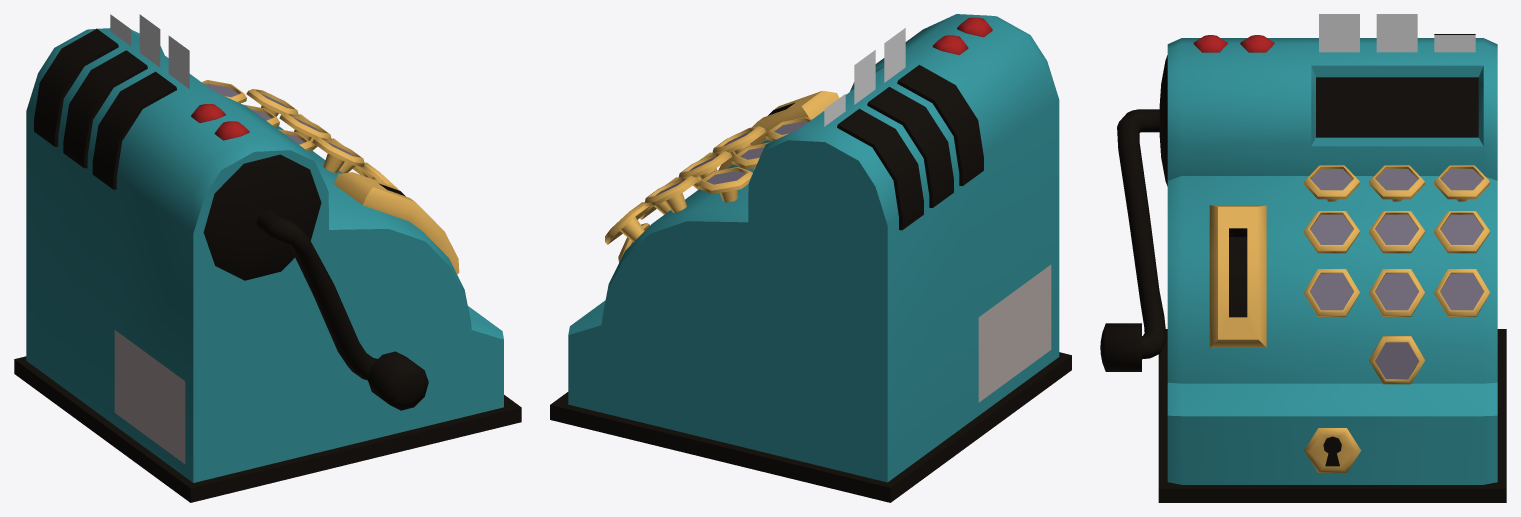
File: OT_166_blue_cash_register_shop.glb
3 renders of one model, left to right at view 1: azimuth 30°, elevation 25°; view 2: azimuth 150°, elevation 25°; view 3: azimuth 270°, elevation 25°, orthographic. The views are drawn at different scales.
Visible parts, largest first — view 1: cash_register_body, black_stripes, base, crank_base, crank, label, buttons, kashes_slot, papers, red lights; view 2: cash_register_body, black_stripes, base, label, buttons, papers, kashes_slot, red lights; view 3: cash_register_body, buttons, base, kashes_slot, crank, papers, keyhole, red lights, crank_base.
Boxes of the visible parts, x1,y1,x2,y2 form: cash_register_body: (26,28,503,482); black_stripes: (34,29,176,189); base: (14,356,521,502); crank_base: (203,154,321,280); crank: (256,210,428,410); label: (114,330,185,463); buttons: (202,80,397,188); kashes_slot: (334,172,459,274); papers: (110,14,189,88); red lights: (191,104,249,140); cash_register_body: (568,14,1059,482); black_stripes: (837,65,983,230); base: (550,352,1071,502); label: (978,264,1051,402); buttons: (605,117,811,262); papers: (824,28,905,126); kashes_slot: (718,90,839,170); red lights: (932,17,992,55); cash_register_body: (1167,38,1497,484); buttons: (1303,165,1490,384); base: (1158,329,1506,502); kashes_slot: (1209,205,1266,347); crank: (1100,109,1166,371); papers: (1319,14,1475,52); keyhole: (1304,428,1361,472); red lights: (1193,35,1274,52); crank_base: (1159,55,1167,186).
Size of the model in its own units: 0.6963 by 0.75 by 0.75.
